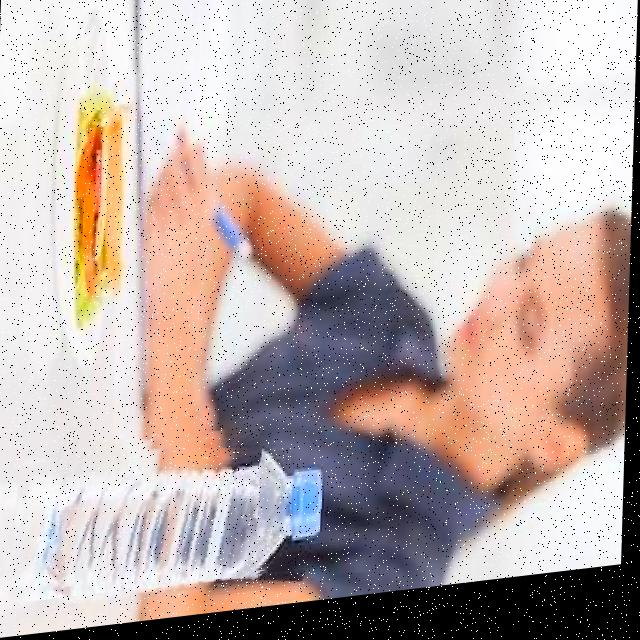plasticbottle: (10, 420, 326, 605)
plasticbottlecap: (259, 402, 355, 580)
